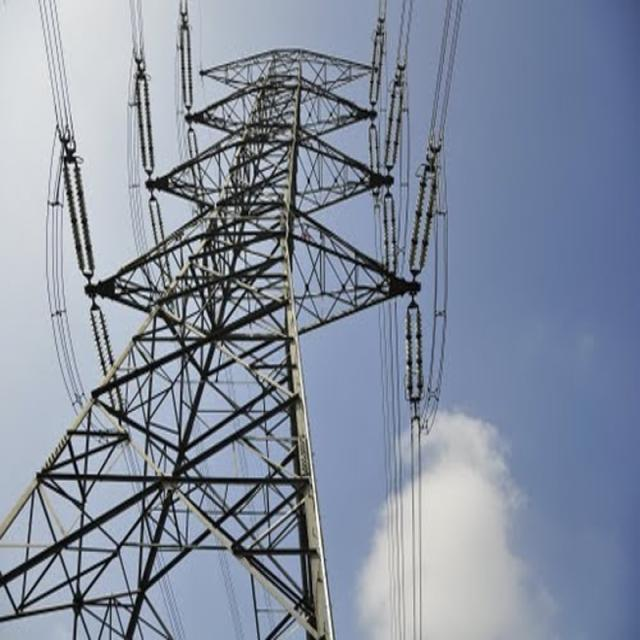non-critical vegetation: (8, 28, 391, 632)
